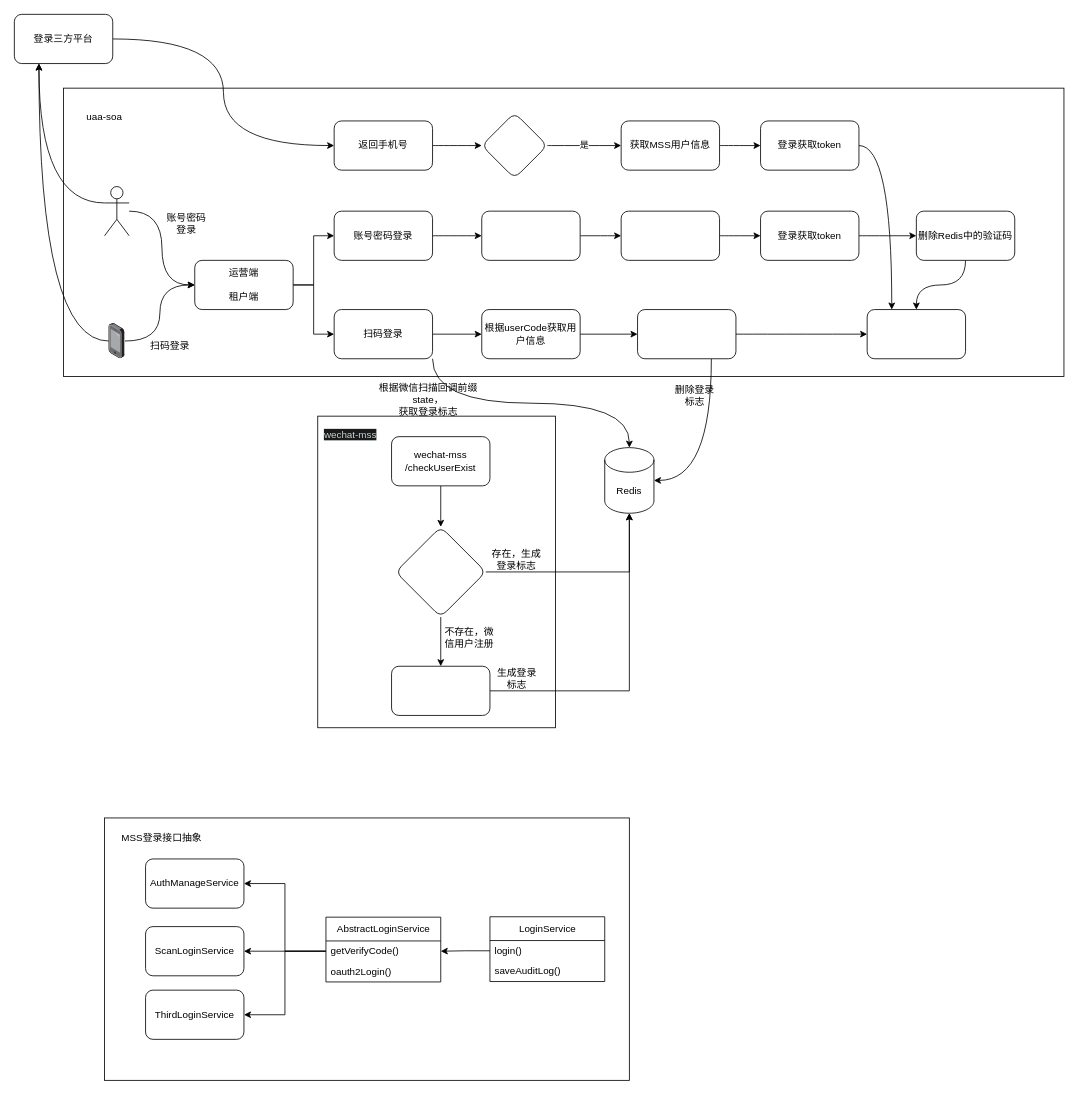
Some shapes in this 1078 by 1095 pixel diagram are drawn without their labels. The centre of each missing label's shape, as x and y in pixels:
"/addUser" belongs at (440,690).
"/checkUserExist" belongs at (440,571).
"Actor" belongs at (116,211).
"审计日志" belongs at (916,334).
"校验用户是否存在" belongs at (514,145).
"根据账号密码获取用户信息" belongs at (670,235).
"登录" belongs at (686,334).
"验证码校验" belongs at (530,235).
